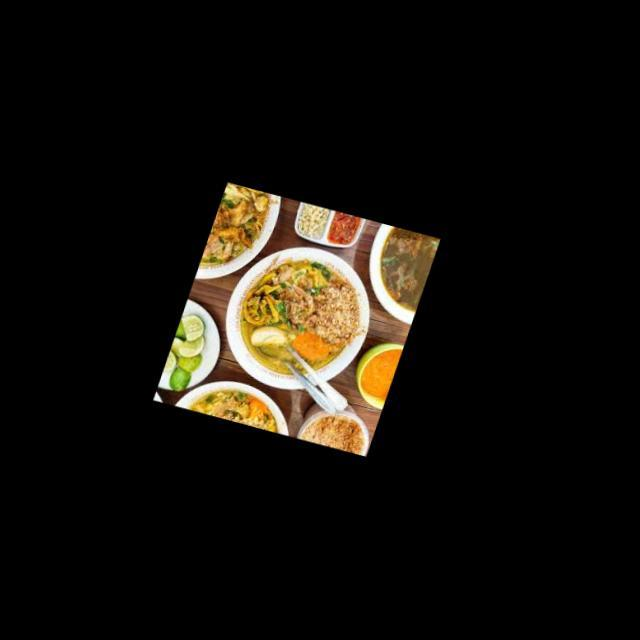Soto: (154, 182, 440, 457)
